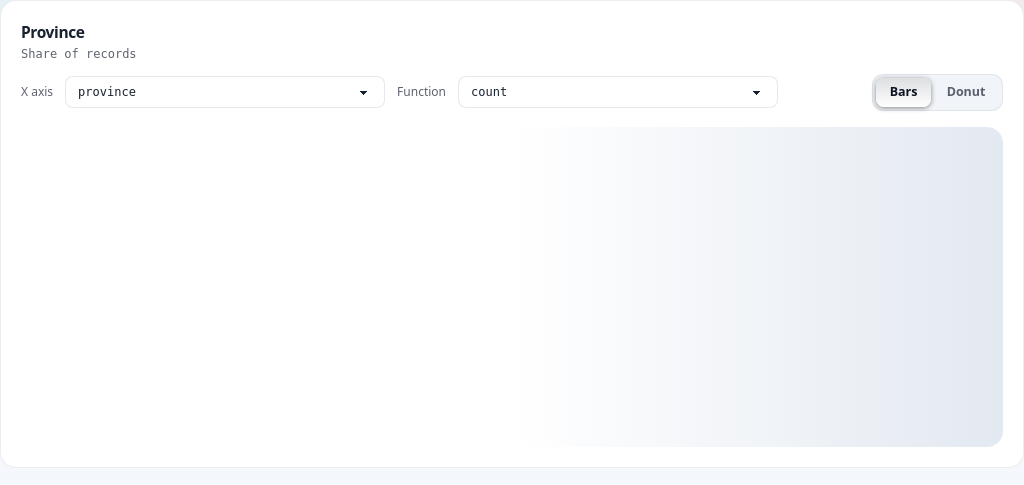
custom aggregation controls › min on a text-only schema selects a real column and preserves text results
The width and height of the screenshot is (1024, 485).
Select "min" in the dropdown labelled "Function": (618, 92) [458, 76, 778, 108]
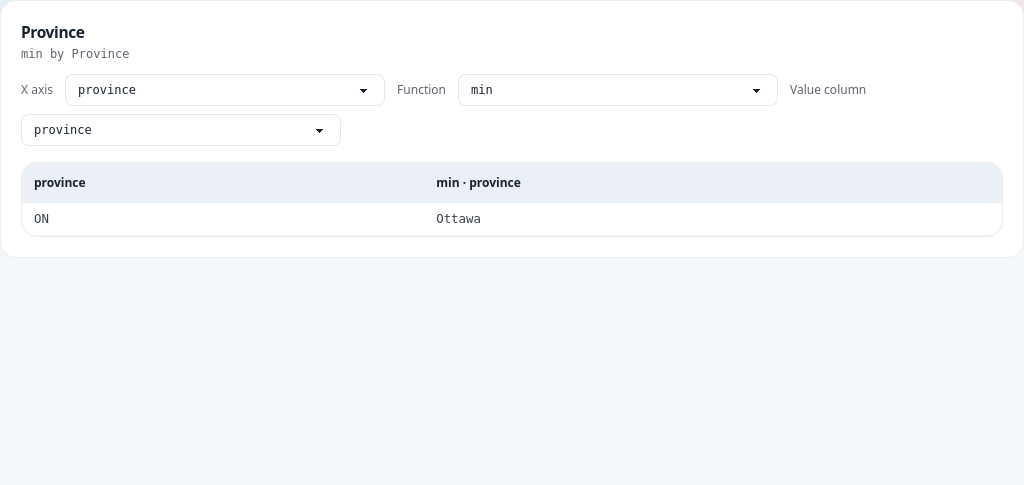
Result: the text "Ottawa" is shown at [424, 203, 1002, 236]
